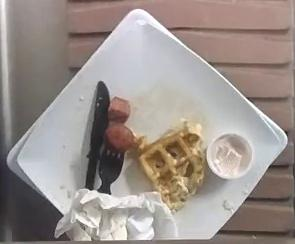potato: (104, 97, 138, 153)
waffle: (138, 120, 203, 208)
